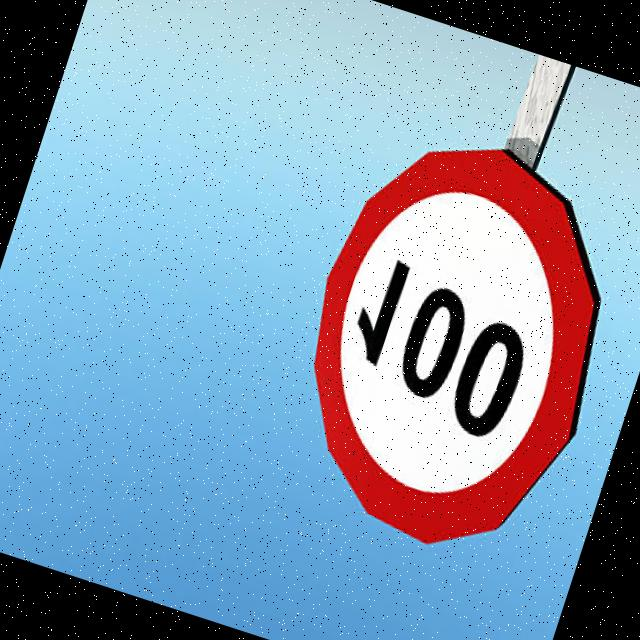speed_limit_100: (261, 123, 640, 576)
